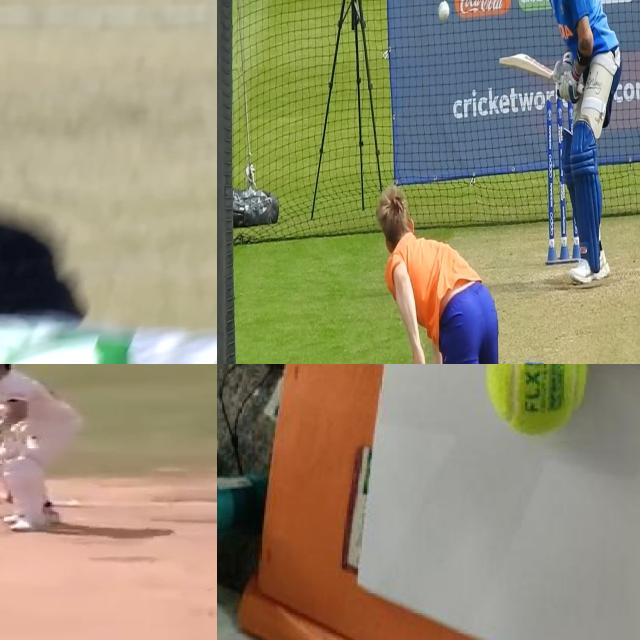Cricket ball: (475, 364, 594, 448), (436, 0, 452, 29)
Stumps: (545, 98, 580, 265)
